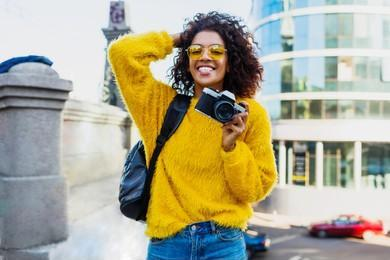face: (189, 41, 228, 86)
